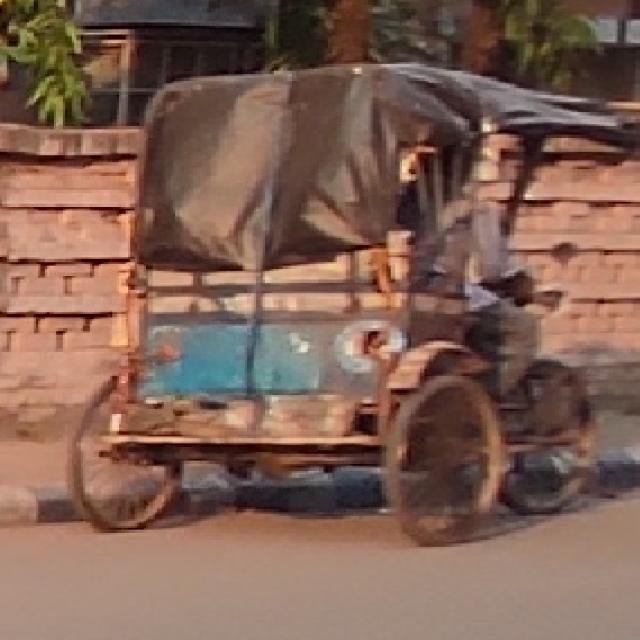rickshaw: (47, 56, 620, 546)
